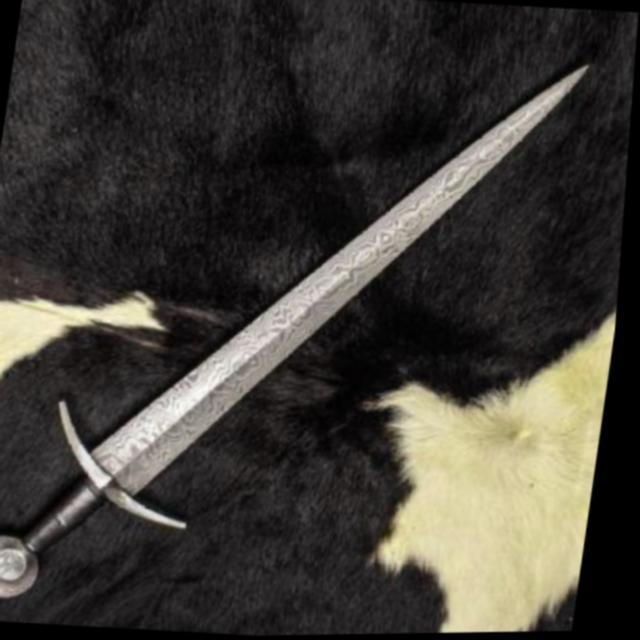weapon: (0, 24, 593, 634)
